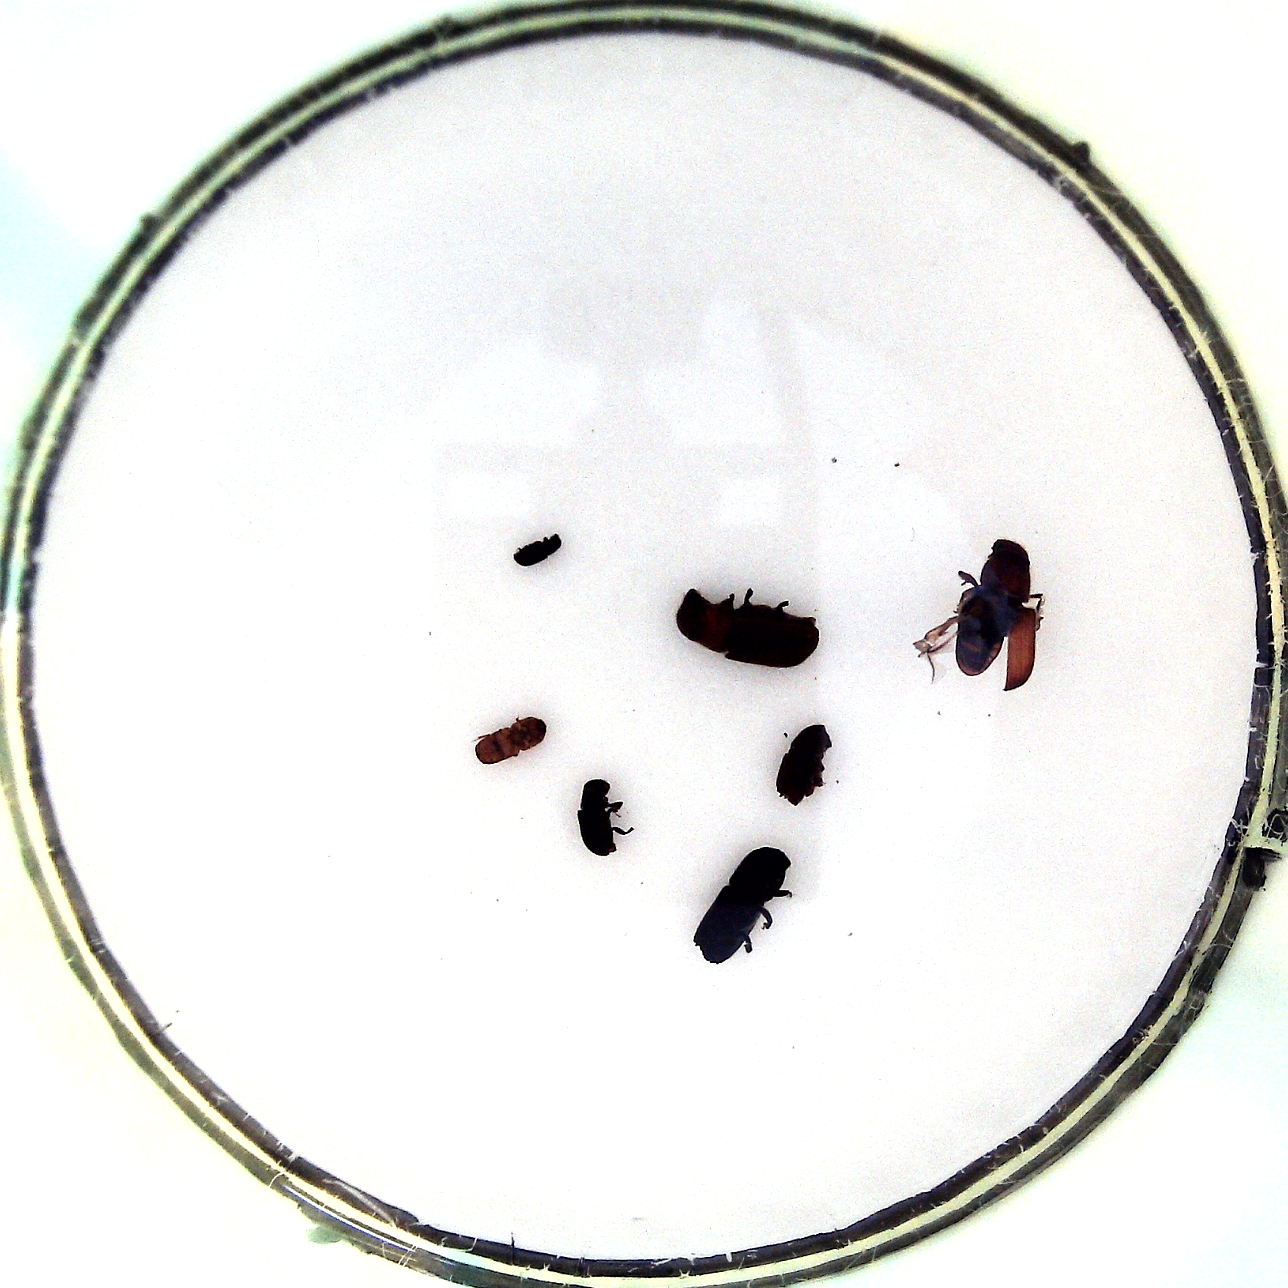Boerner: (690, 845, 803, 964)
Leconte: (915, 535, 1045, 695), (672, 581, 820, 669)
Linnaeus: (770, 721, 833, 811)
acuminatus: (469, 712, 548, 767)
armandi: (577, 777, 631, 857)
coleoptera: (508, 530, 564, 574)
